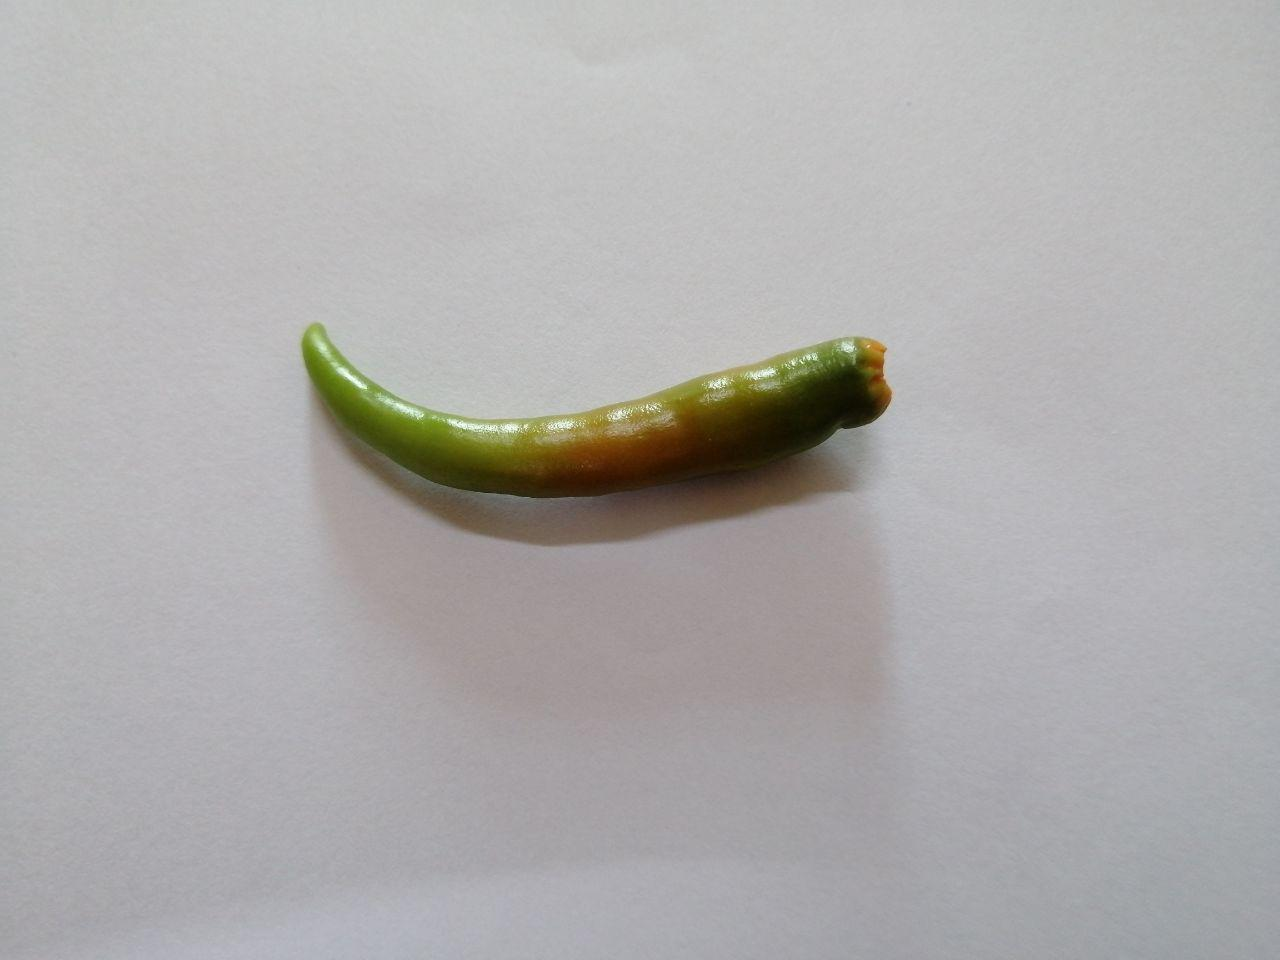lada kuning: (280, 290, 928, 567)
